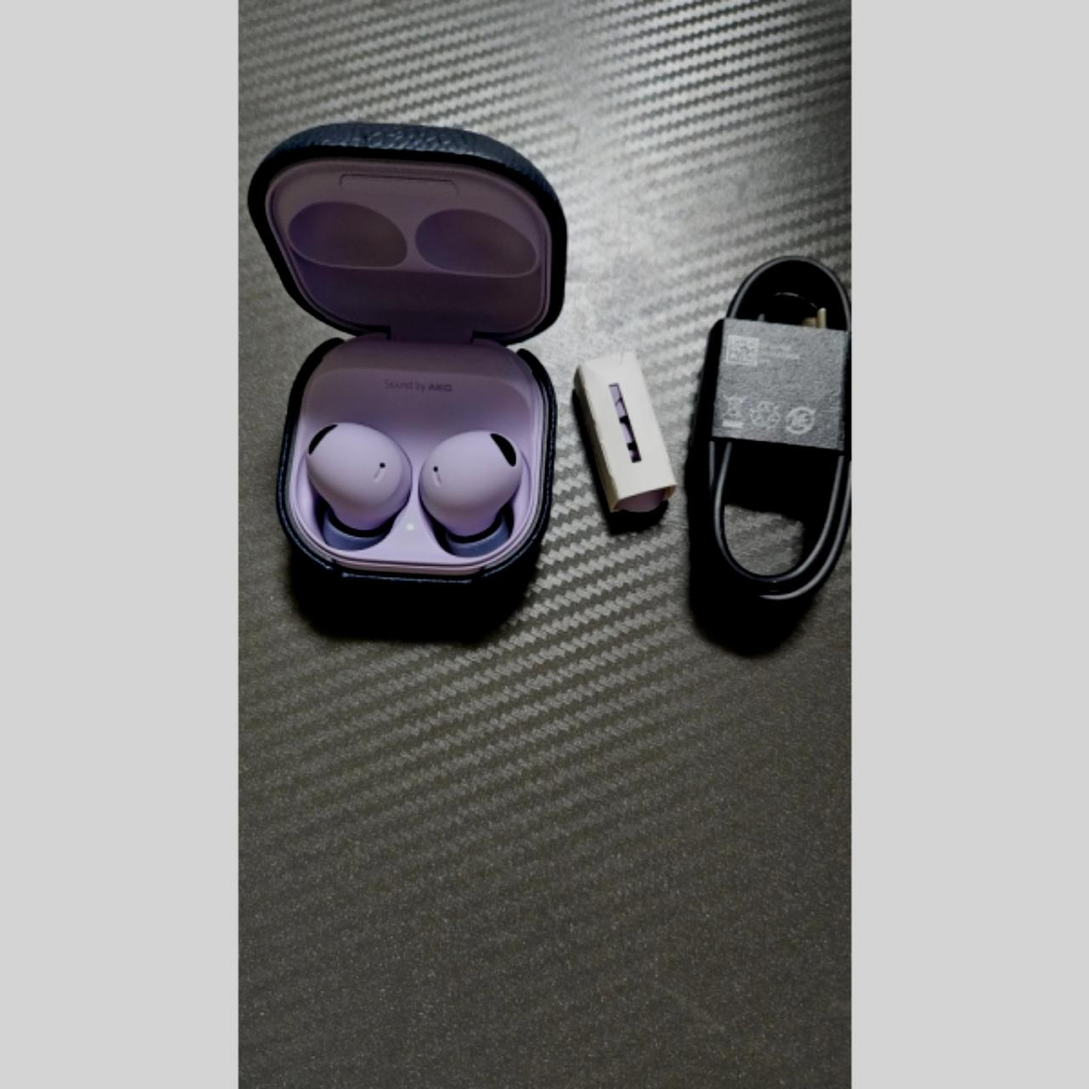Buds: (246, 115, 564, 607)
Buds_Units: (300, 407, 413, 554), (418, 424, 530, 558)
